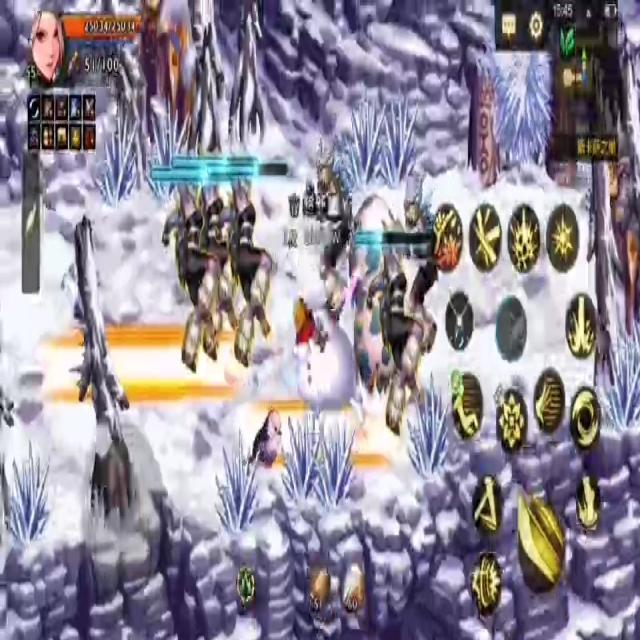player: (286, 274, 368, 432)
